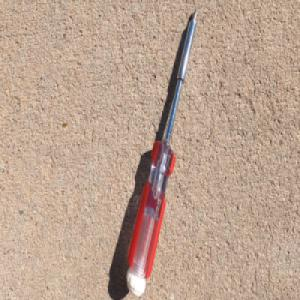Screwdriver: (124, 8, 197, 296)
